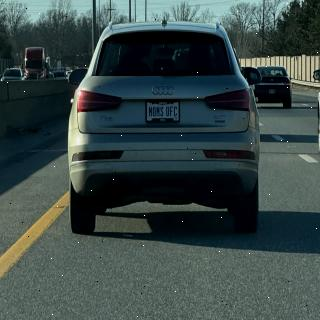license: (147, 101, 182, 124)
